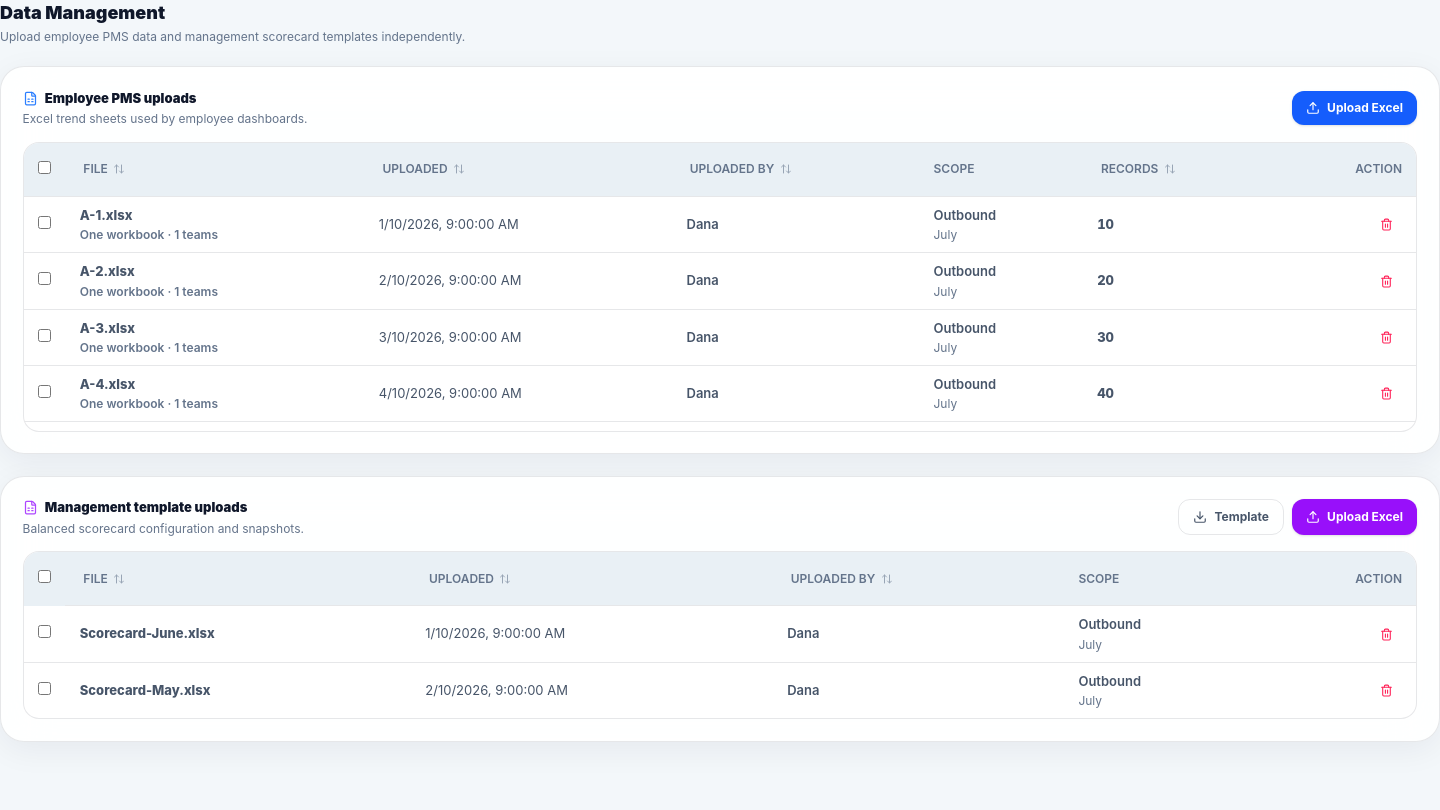
Test: DataManagementPanel batch delete › lists five file names and then how many more
Check: the checkbox named "Select A-1.xlsx" is shown, box [38,216,51,229]
Click the 1st checkbox named "Select all uploads" at [44, 167], box [38,161,51,174]
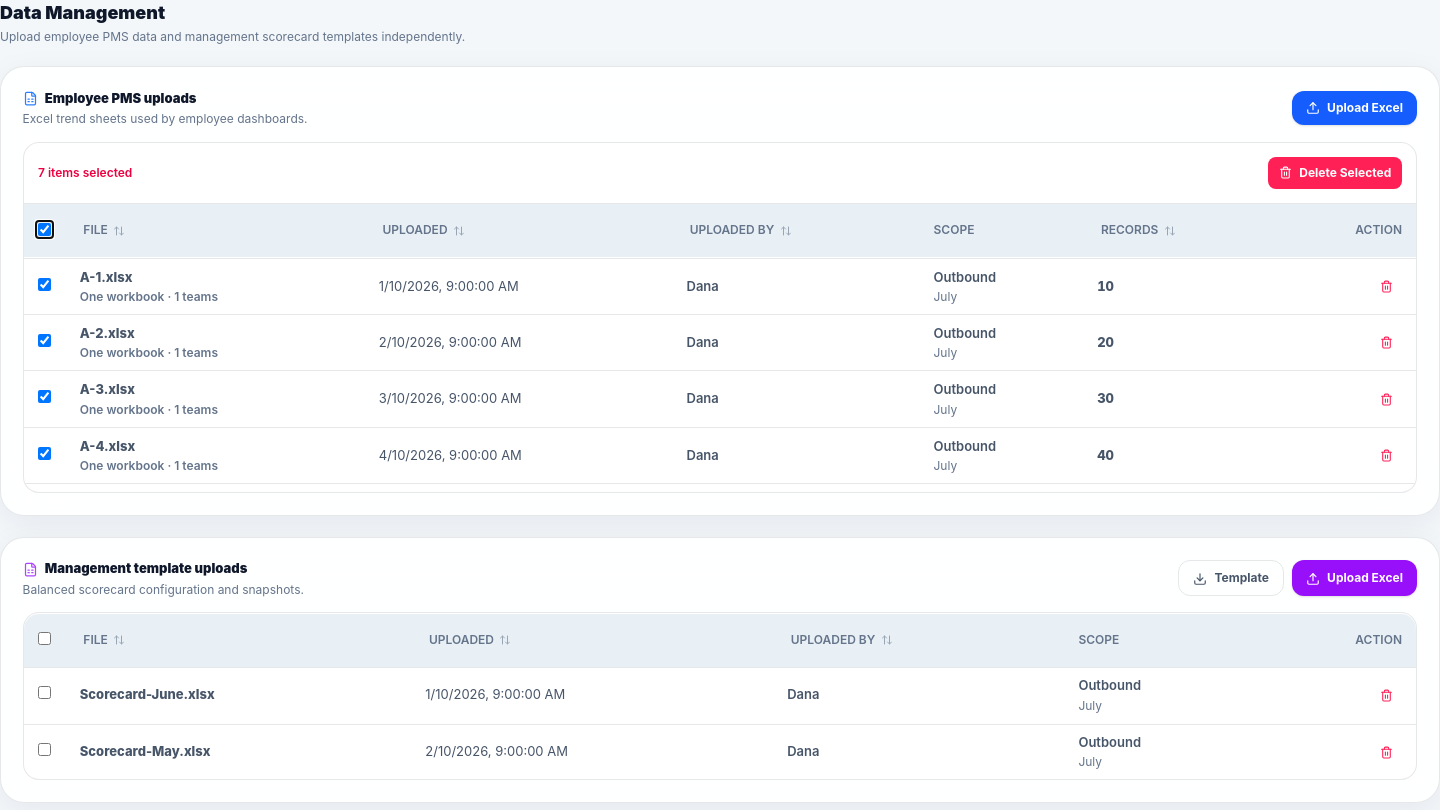
Click the button "Delete Selected" at [1335, 173], box [1268,157,1402,189]
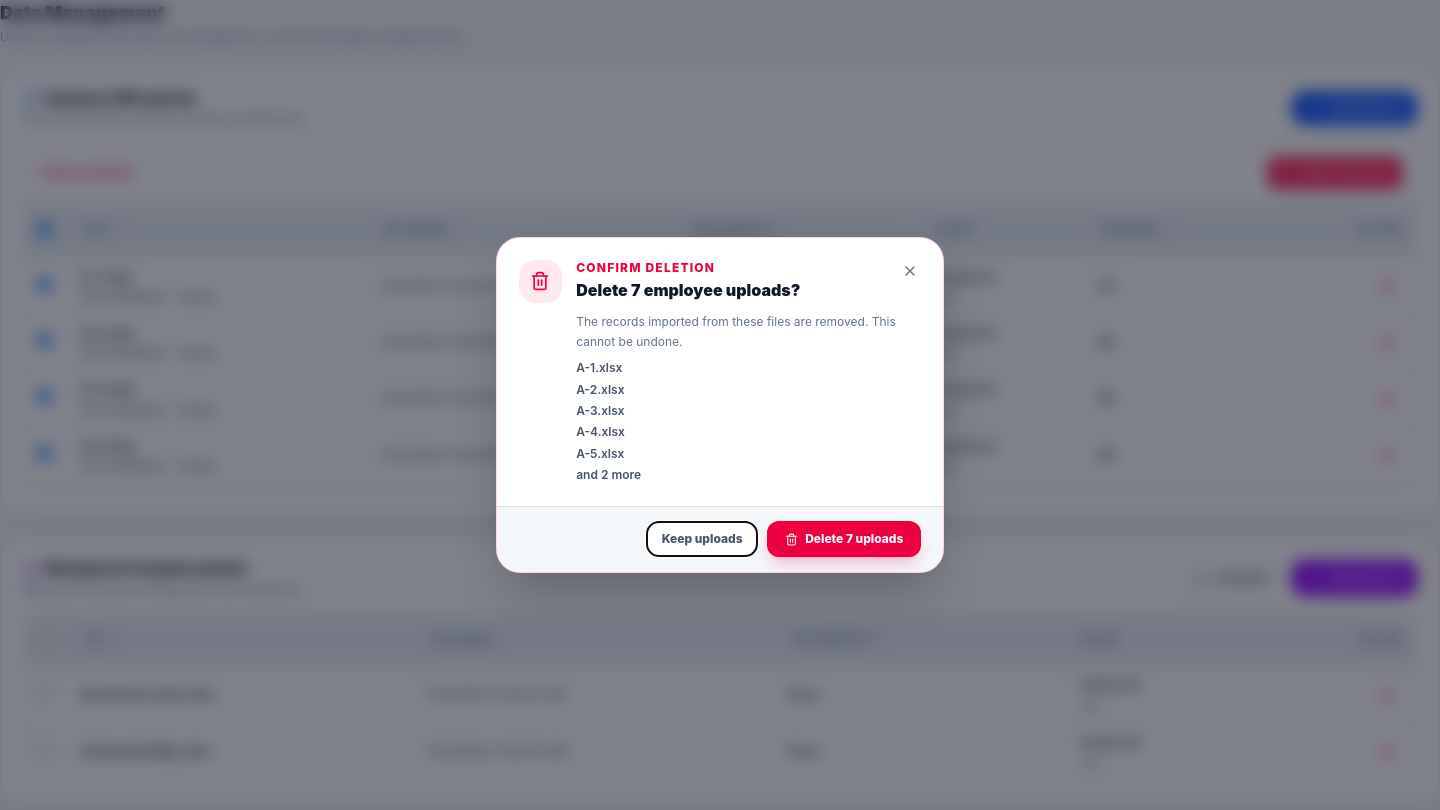
Check: the dialog shows "Delete 7 employee uploads?", box [576,280,800,300]
Check: the list item "A-5.xlsx" is shown, box [576,446,624,461]
Check: the list item "and 2 more" is shown, box [576,467,641,482]
